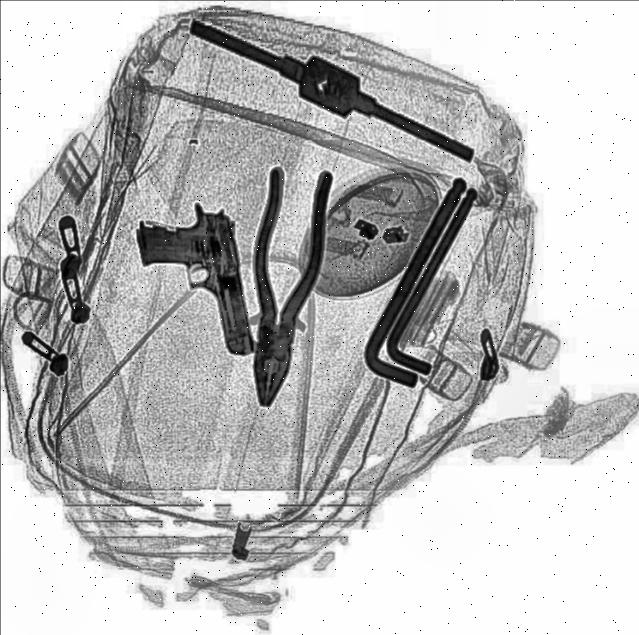Gun: (133, 197, 258, 365)
Pliers: (236, 163, 337, 411)
